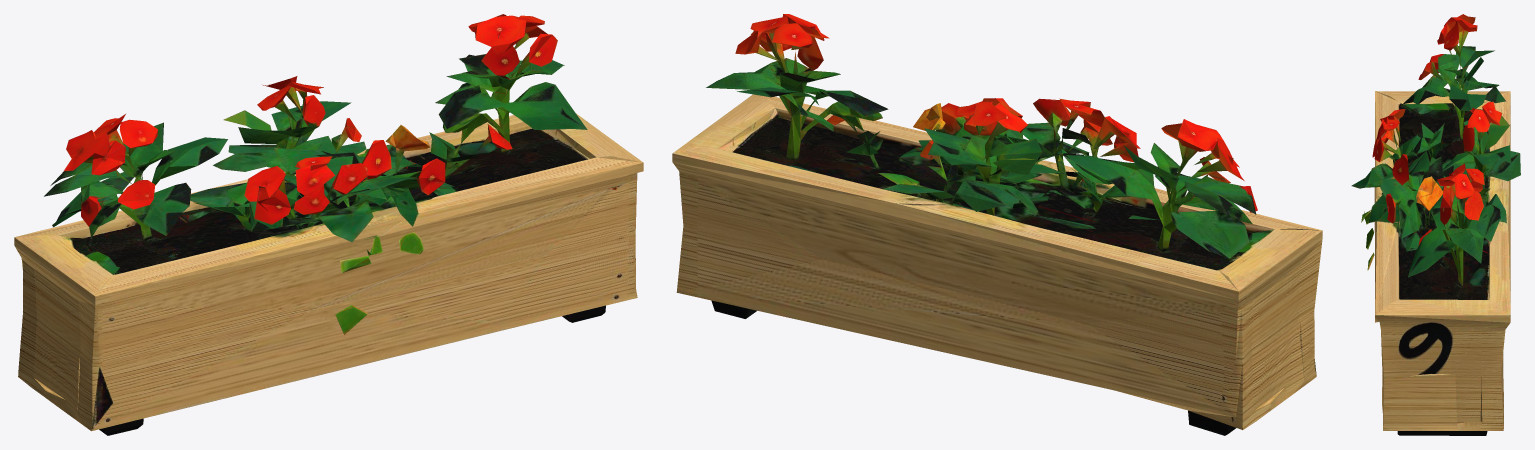
File: flower-box.glb
The picture shows the model from 3 angles, left to right: view 1: azimuth 30°, elevation 25°; view 2: azimuth 150°, elevation 25°; view 3: azimuth 270°, elevation 25°; orthographic projection. The views are drawn at different scales.
Bounding box in the file's own units: 1 × 0.5 × 0.32.
Materials: 1 (1 with a texture image).
